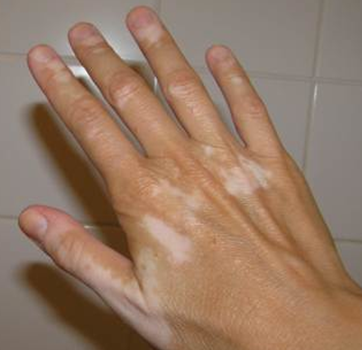Diseased: (25, 38, 284, 317)
